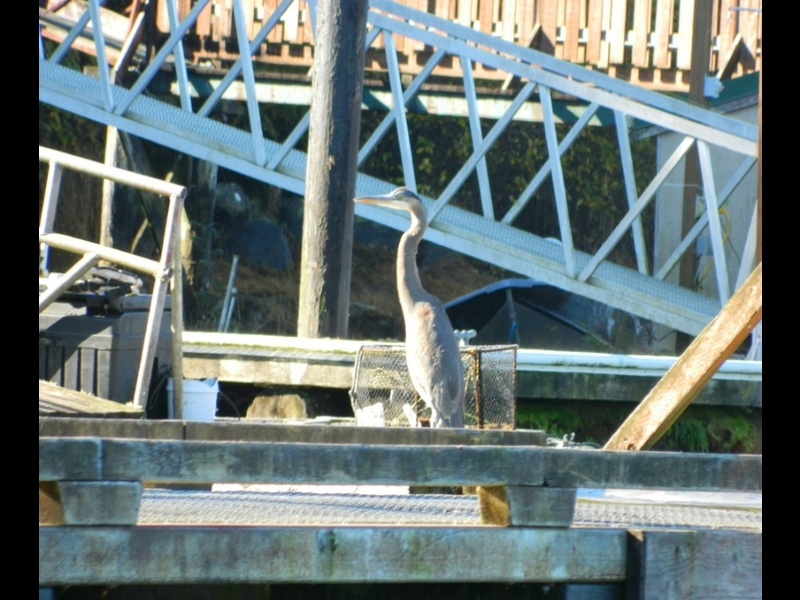heron: (349, 183, 470, 431)
